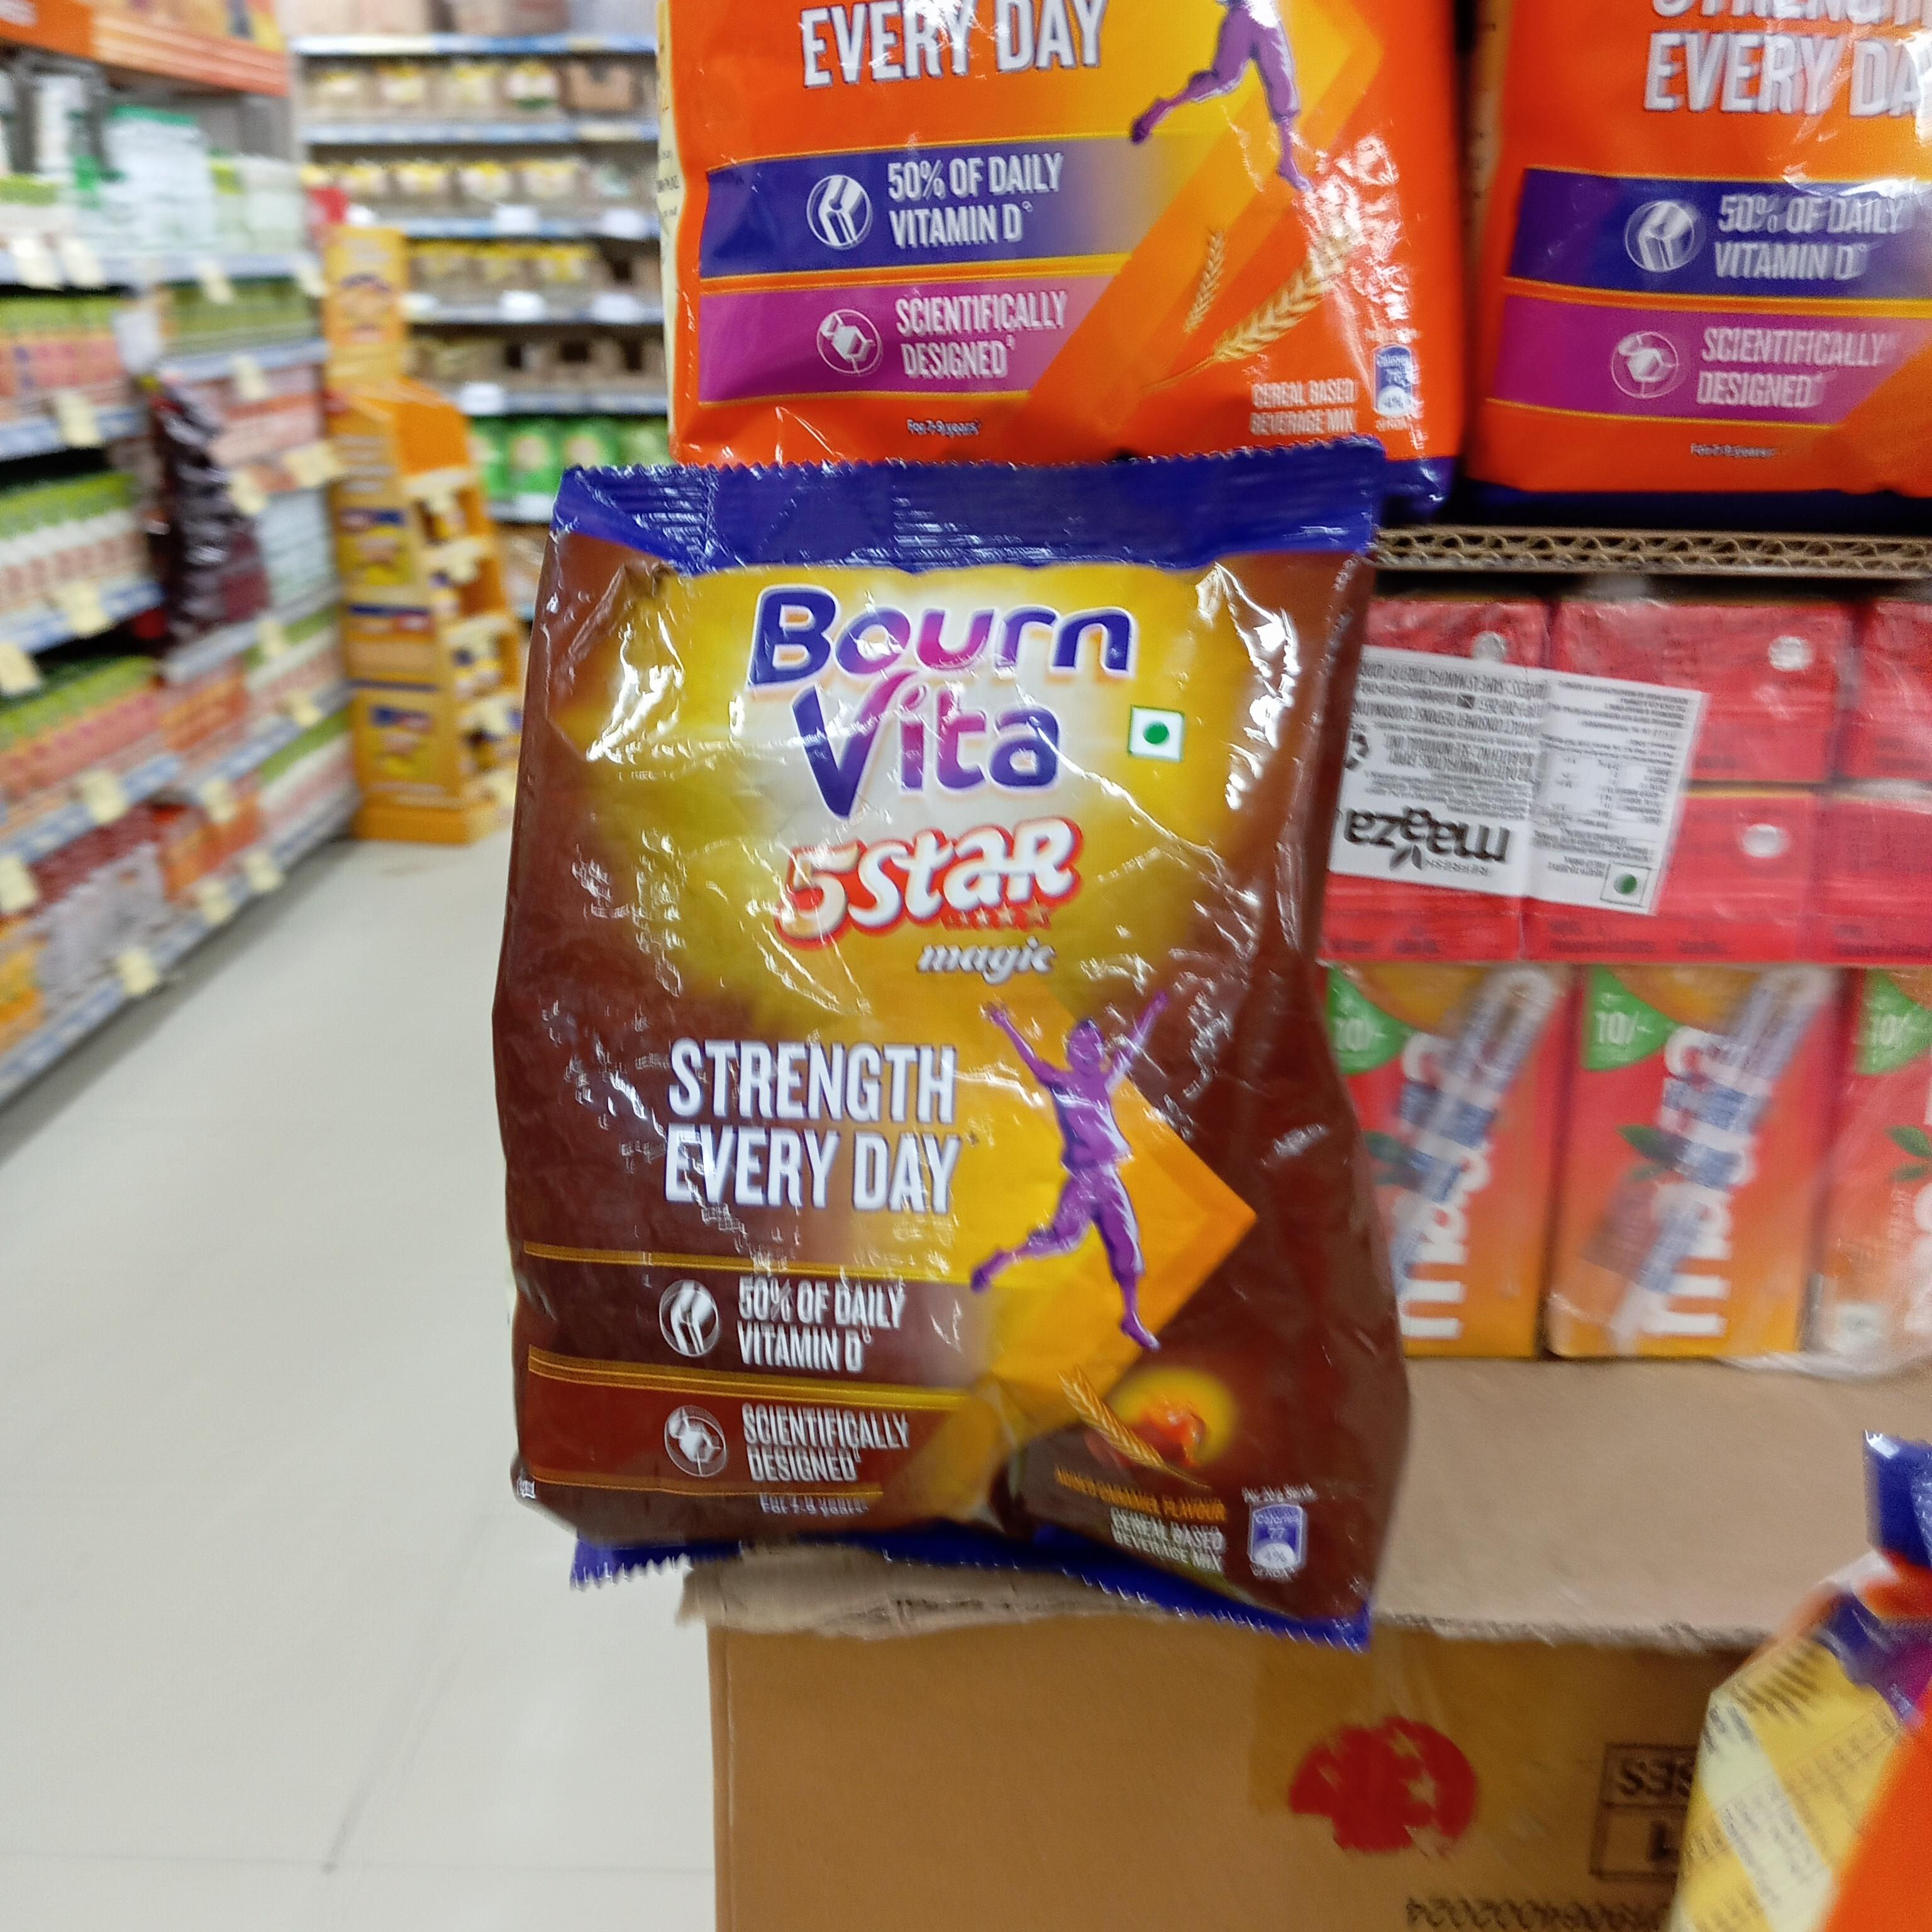BOURN_VITA_FIVE_STAR_MAGIC_500_G_POUCH: (533, 474, 1376, 1608)
